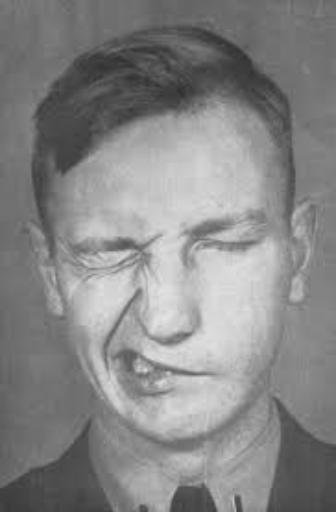left_eye: (197, 229, 262, 253)
left_lip_corner: (178, 364, 212, 382)
right_eye: (75, 252, 142, 277)
right_lip_corner: (110, 347, 135, 372)
